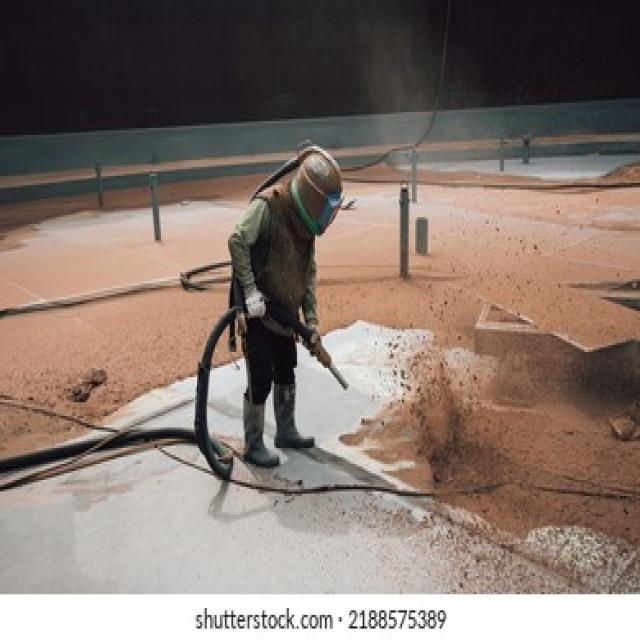corrosion: (0, 0, 640, 150), (333, 171, 640, 331), (367, 404, 640, 556), (5, 233, 203, 367)
